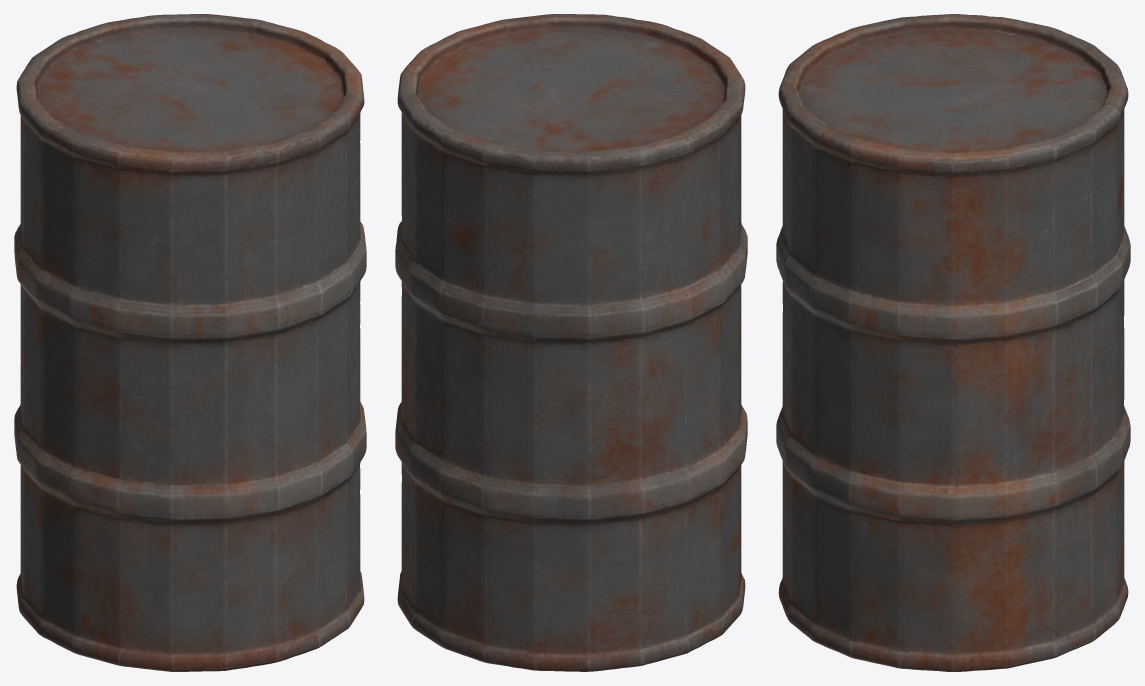
Rendered from raw.glb.
3 renders of one model, left to right at view 1: azimuth 30°, elevation 25°; view 2: azimuth 150°, elevation 25°; view 3: azimuth 270°, elevation 25°, orthographic.
Bounding box in the file's own units: 0.6282 × 1.01 × 0.6282.
1 material, 1 textured.
